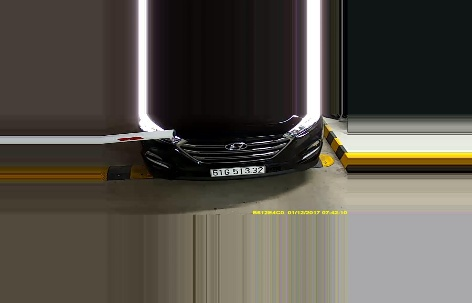plate: (208, 162, 266, 177)
